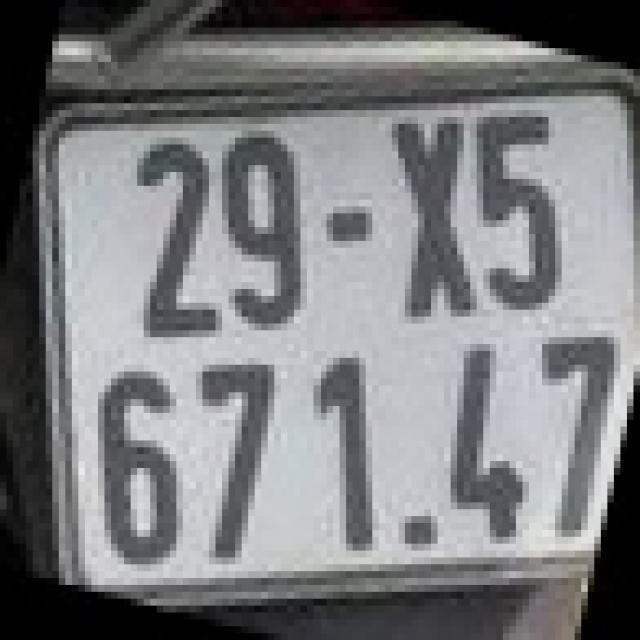1: (307, 351, 385, 551)
2: (124, 131, 222, 337)
4: (444, 337, 529, 544)
5: (477, 110, 568, 310)
6: (91, 365, 183, 564)
7: (536, 330, 620, 537), (196, 358, 281, 557)
9: (222, 124, 307, 330)
X: (392, 117, 477, 317)
